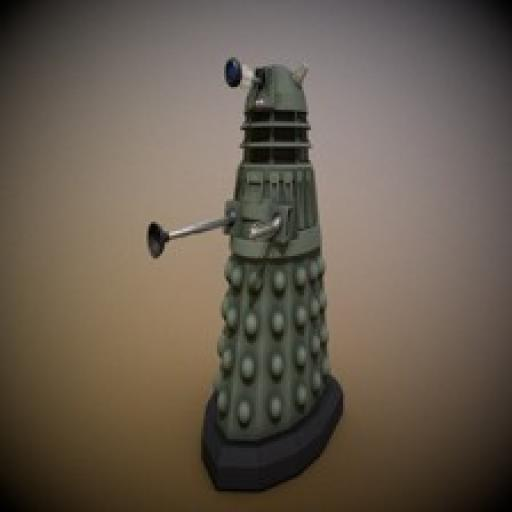dalek: (130, 49, 348, 491)
